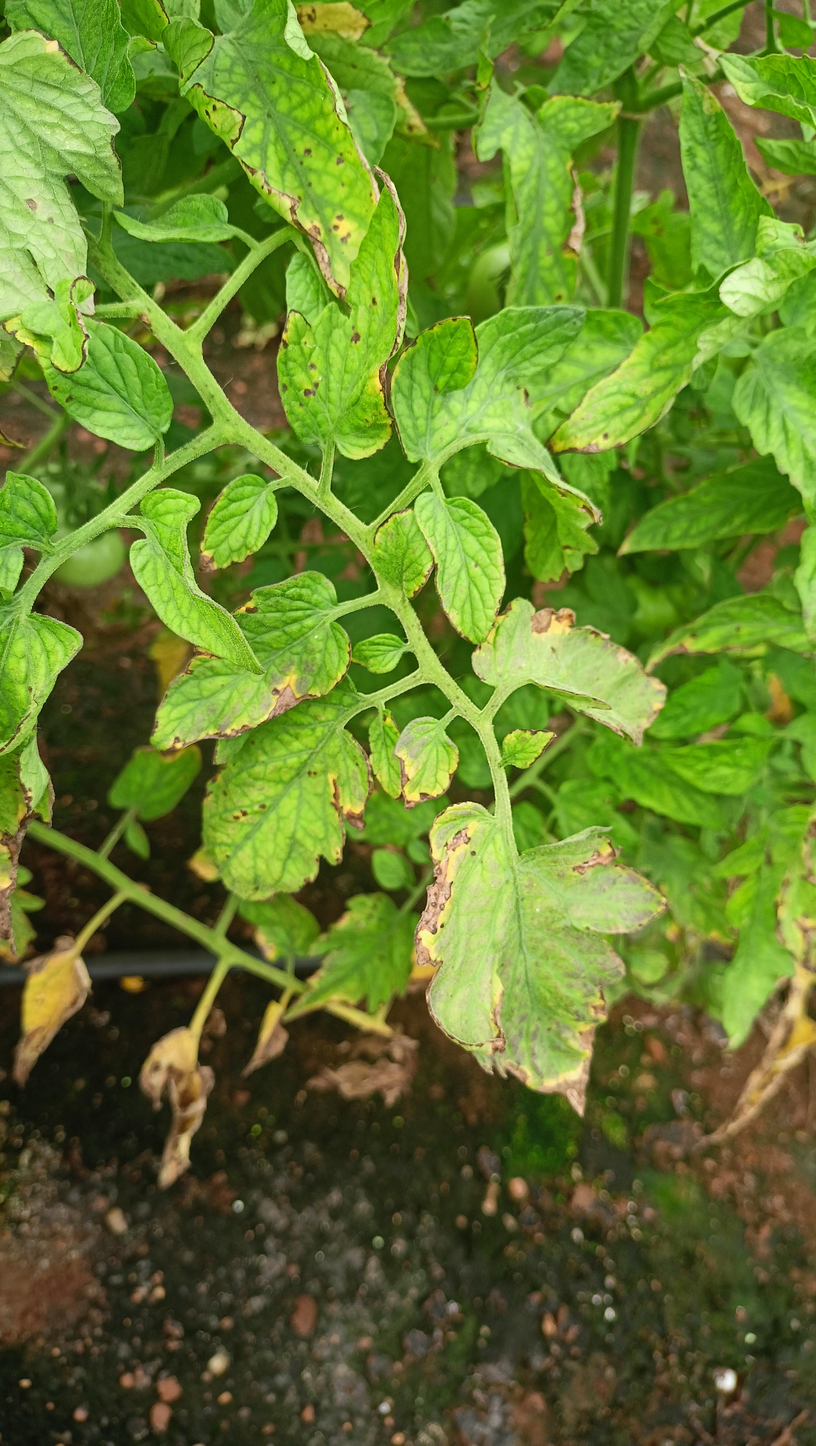Early Blight: (409, 796, 675, 1120), (156, 0, 384, 323), (201, 679, 386, 910), (140, 572, 354, 763), (277, 162, 413, 459), (467, 591, 672, 754), (389, 709, 460, 812)
